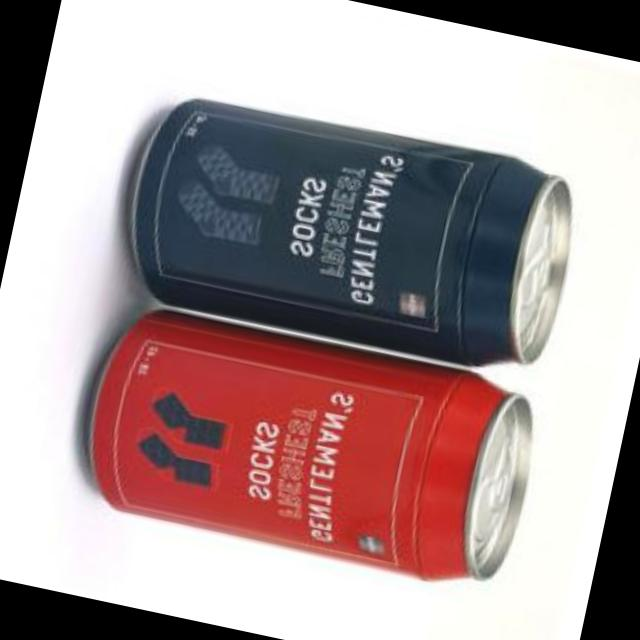metal: (92, 313, 532, 581), (134, 102, 573, 367)
